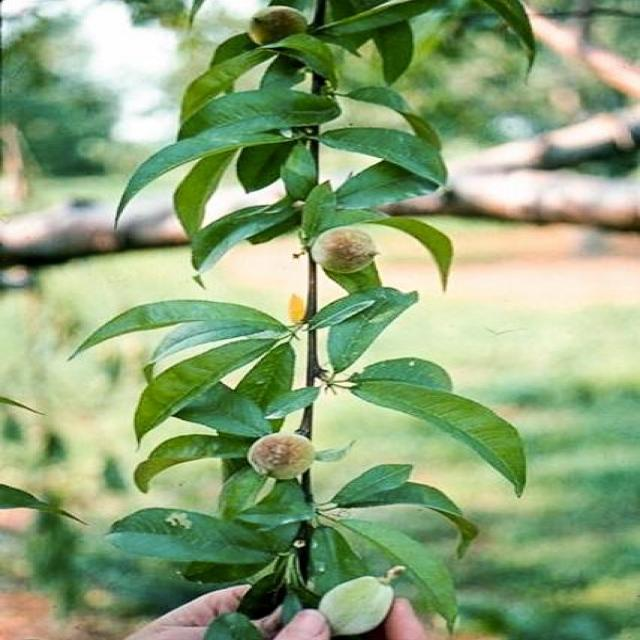Peach: (64, 29, 532, 556)
